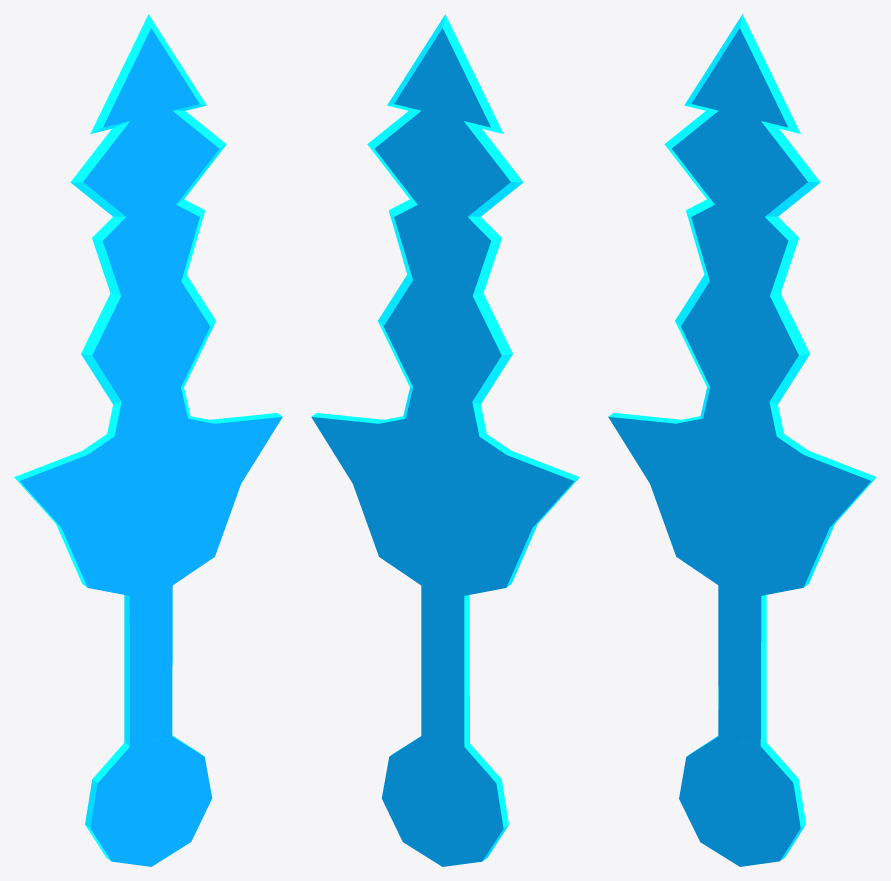
File: 18-Geometric.gltf
3 views of the same model, side by side, from view 1: azimuth 30°, elevation 25°; view 2: azimuth 150°, elevation 25°; view 3: azimuth 330°, elevation 25° (orthographic).
Visible parts, largest first — view 1: 0; view 2: 0; view 3: 0.
Boxes of the visible parts, x1,y1,x2,y2 form: 0: [14, 14, 282, 866]; 0: [311, 14, 579, 866]; 0: [608, 14, 876, 866].
Bounding box in the file's own units: 0.4612 × 1.42 × 0.0165.
